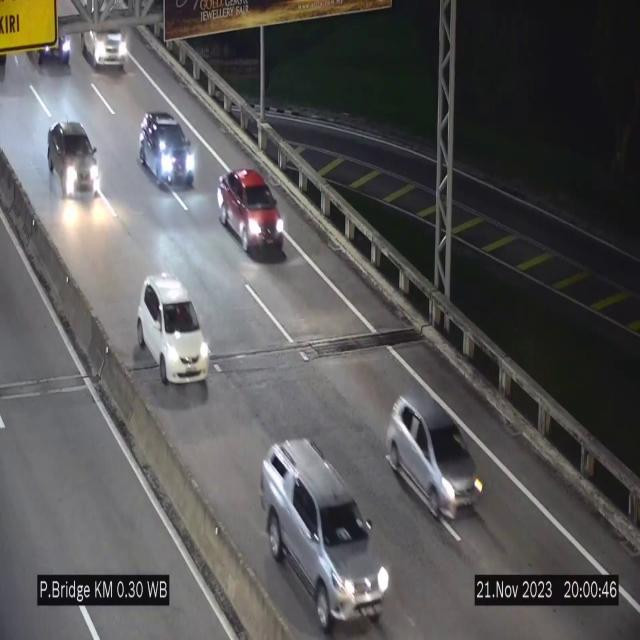Car: (261, 437, 389, 633), (387, 395, 485, 518), (136, 276, 210, 386), (216, 168, 286, 258), (42, 116, 105, 205), (139, 112, 197, 187), (80, 6, 132, 70)
